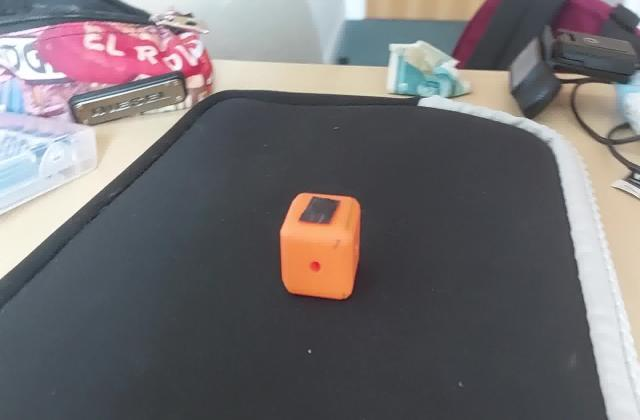black: (296, 195, 342, 225)
cube: (276, 190, 364, 302)
